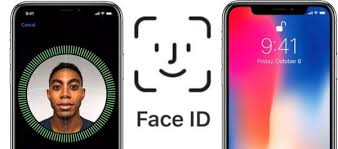iphone: (220, 1, 338, 149)
iphone10: (220, 3, 338, 148)
